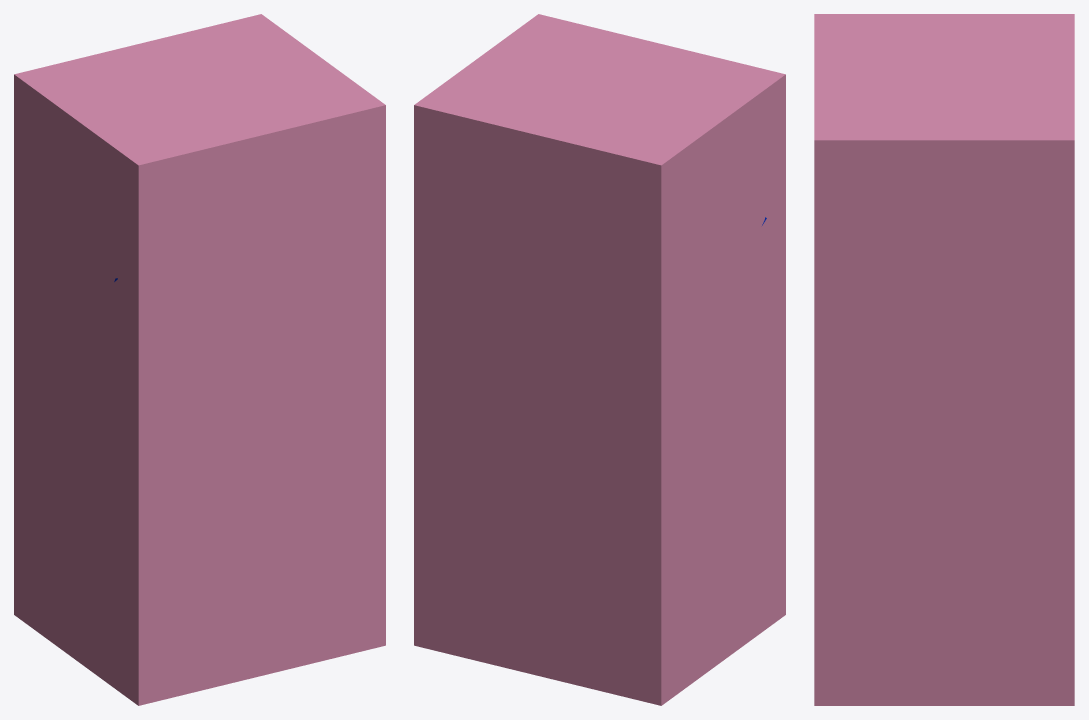
File: tree_aspen_small_d.dae
The picture shows the model from 3 angles, left to right: view 1: azimuth 30°, elevation 25°; view 2: azimuth 150°, elevation 25°; view 3: azimuth 270°, elevation 25°; orthographic projection. The views are drawn at different scales.
Visible parts, largest first — view 1: Untitled; view 2: Untitled; view 3: Untitled.
Part boxes in pixels (box(x1,y1,x2,y2)): Untitled: box(14, 14, 385, 705); Untitled: box(414, 14, 785, 705); Untitled: box(814, 14, 1074, 705).
Bounding box in the file's own units: 3.98 × 3.43 × 8.53.
